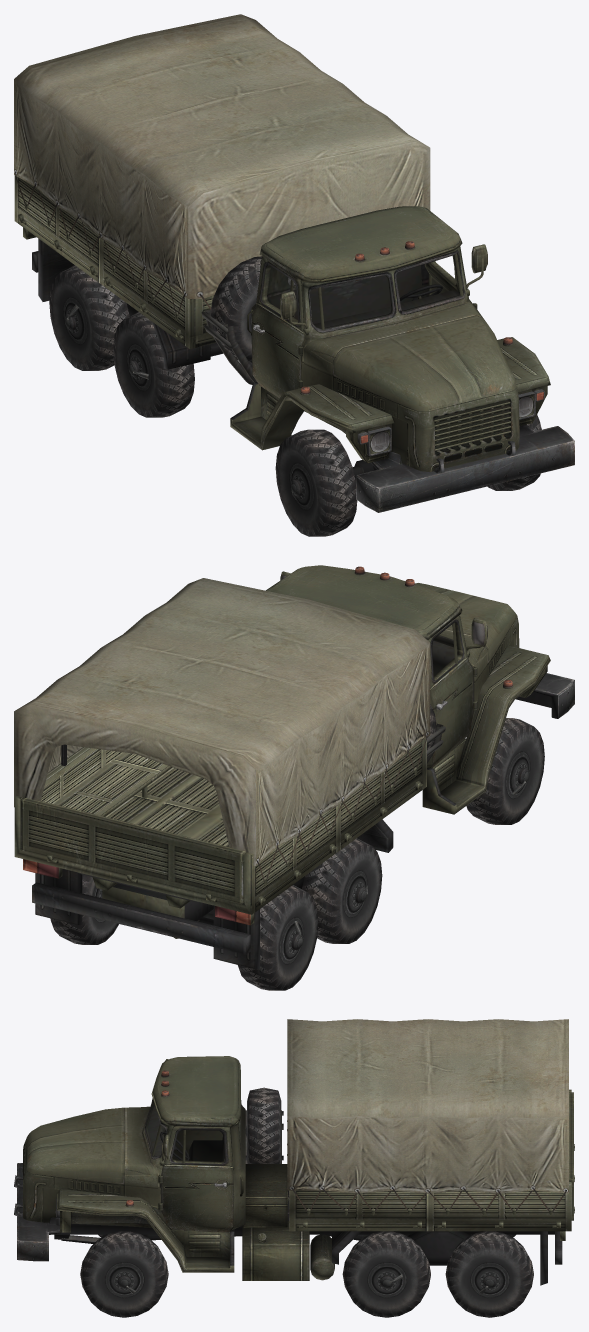
File: ural_4320.glb
3 renders of one model, top to bottom at view 1: azimuth 30°, elevation 25°; view 2: azimuth 150°, elevation 25°; view 3: azimuth 270°, elevation 25°, orthographic. The views are drawn at different scales.
Visible parts, largest first — view 1: ural4320_0; view 2: ural4320_0; view 3: ural4320_0.
Boxes of the visible parts, left/top/right/bottom form: ural4320_0: left=14, top=14, right=574, bottom=536; ural4320_0: left=14, top=565, right=574, bottom=990; ural4320_0: left=14, top=1019, right=574, bottom=1317.
Bounding box in the file's own units: 3.06 × 3.27 × 7.57.
Materials: 1 (1 with a texture image).
